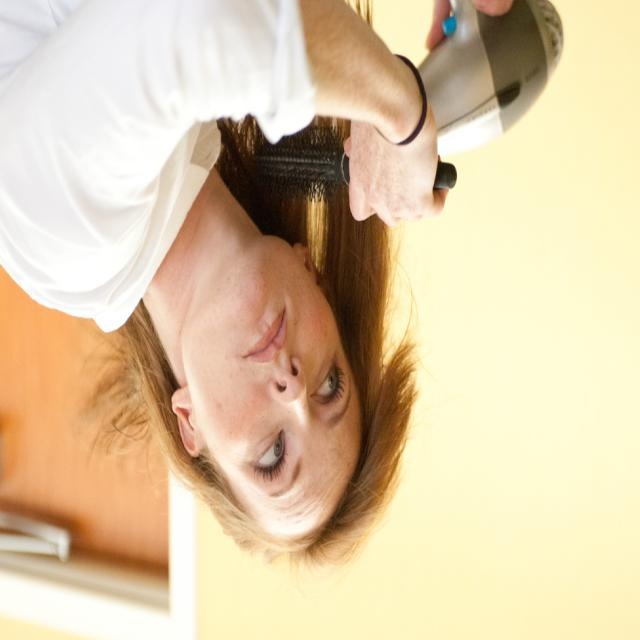dryer: (344, 0, 582, 236)
